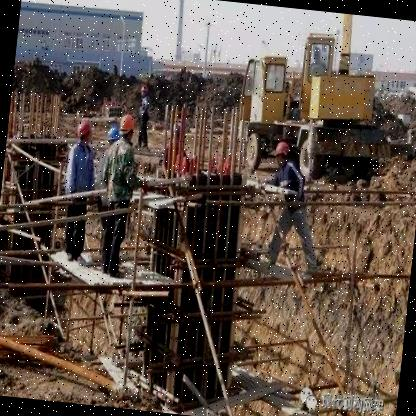capacete: (115, 112, 136, 140), (273, 140, 291, 168), (74, 118, 94, 142), (106, 124, 120, 141), (139, 84, 150, 98)
sem_colete_refletivo: (103, 140, 139, 202), (63, 142, 96, 194), (273, 164, 310, 209), (137, 96, 150, 121)
